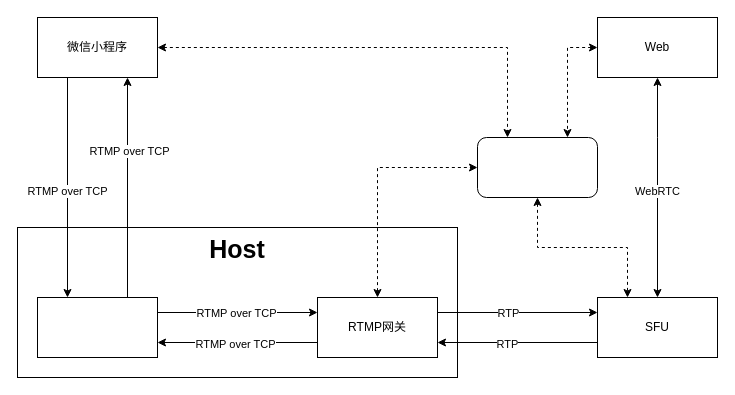
This 735x395 diagram has some shape labels left out. The centre of each missing label's shape, as x and y in pixels:
RTMP服务器: (97,327)
Signal: (537,167)
